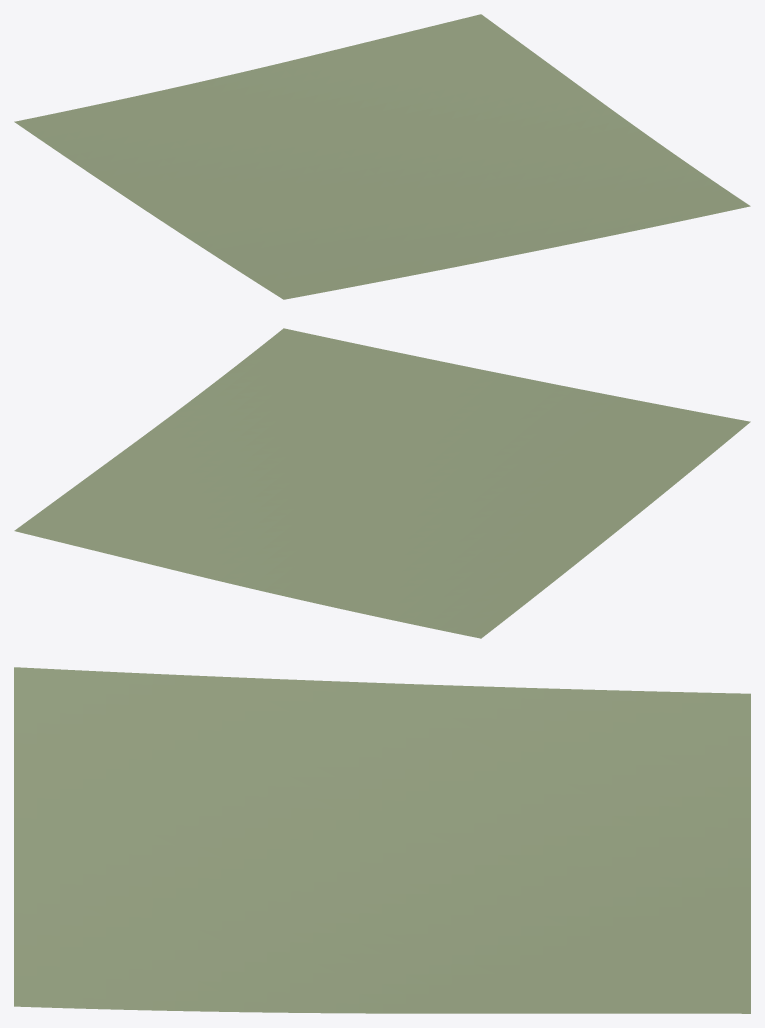
Rendered from desert-3-24.glb.
The picture shows the model from 3 angles, top to bottom: view 1: azimuth 30°, elevation 25°; view 2: azimuth 150°, elevation 25°; view 3: azimuth 270°, elevation 25°; orthographic projection. The views are drawn at different scales.
Visible parts, largest first — view 1: desert-3-24; view 2: desert-3-24; view 3: desert-3-24.
Boxes of the visible parts, box(x1,y1,x2,y2) form: desert-3-24: box(14, 14, 750, 299); desert-3-24: box(14, 328, 750, 638); desert-3-24: box(14, 667, 750, 1013).
Bounding box in the file's own units: 512 × 27.13 × 512.
